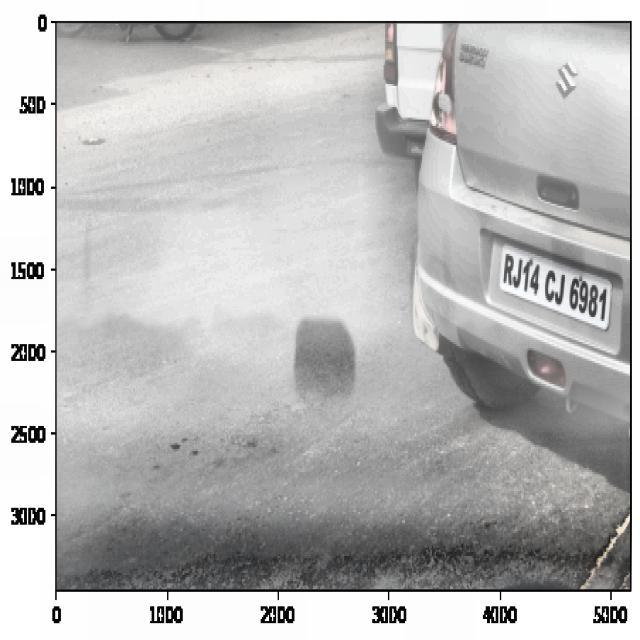license_plate: (497, 251, 611, 328)
